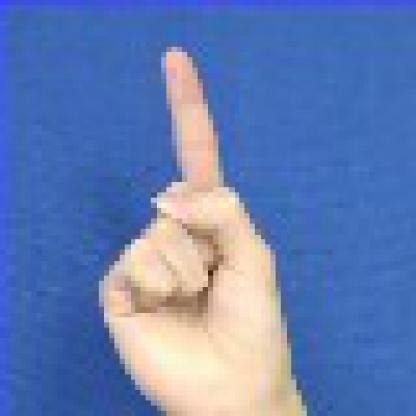one: (89, 43, 309, 416)
